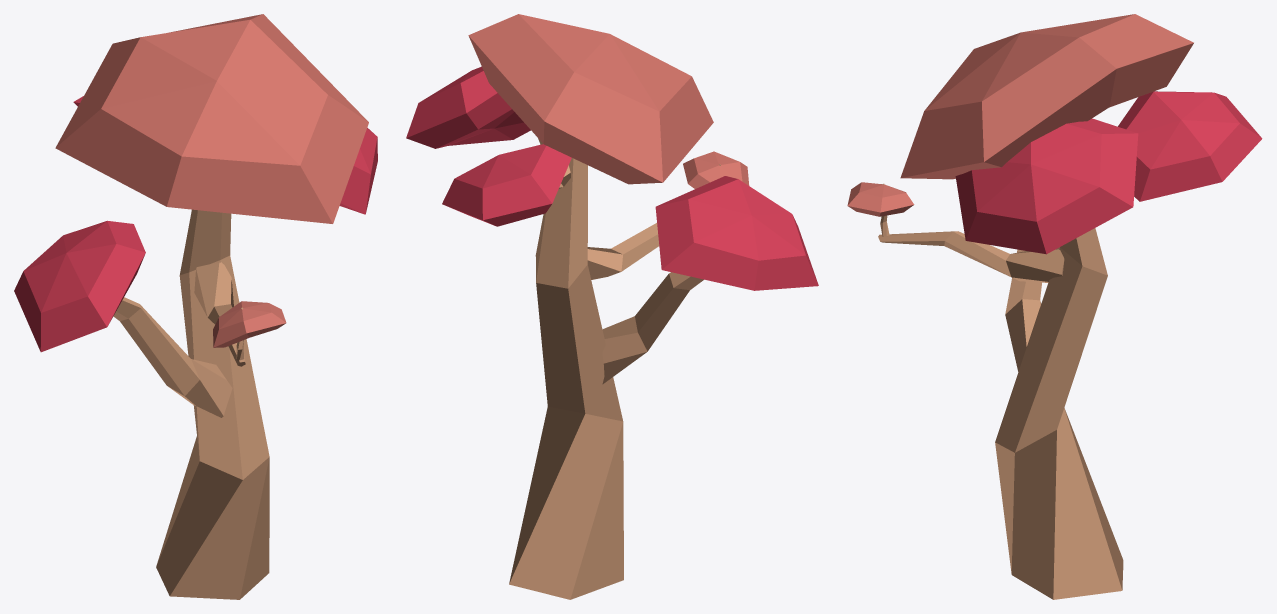
Rendered from Tree5_Rot270.fbx.
The picture shows the model from 3 angles, left to right: view 1: azimuth 30°, elevation 25°; view 2: azimuth 150°, elevation 25°; view 3: azimuth 270°, elevation 25°; orthographic projection. The views are drawn at different scales.
Visible parts, largest first — view 1: Sphere.013; view 2: Sphere.013; view 3: Sphere.013.
Part boxes in pixels (x1,y1,x2,y2): Sphere.013: [14, 14, 377, 599]; Sphere.013: [406, 14, 818, 599]; Sphere.013: [847, 14, 1262, 599].
Size of the model in its own units: 316 by 452 by 304.
